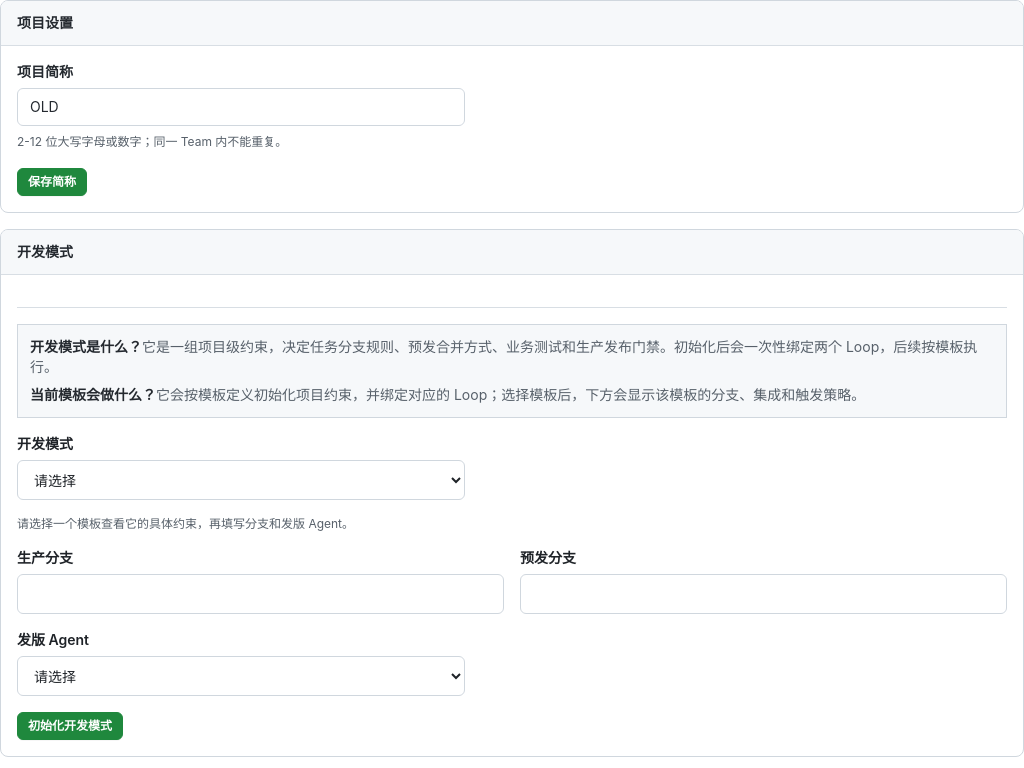
Scenario: ProjectSettingsPanel › disables controls while the request is pending
Click the button "保存简称" at (52, 182), box 17,168 -> 87,196
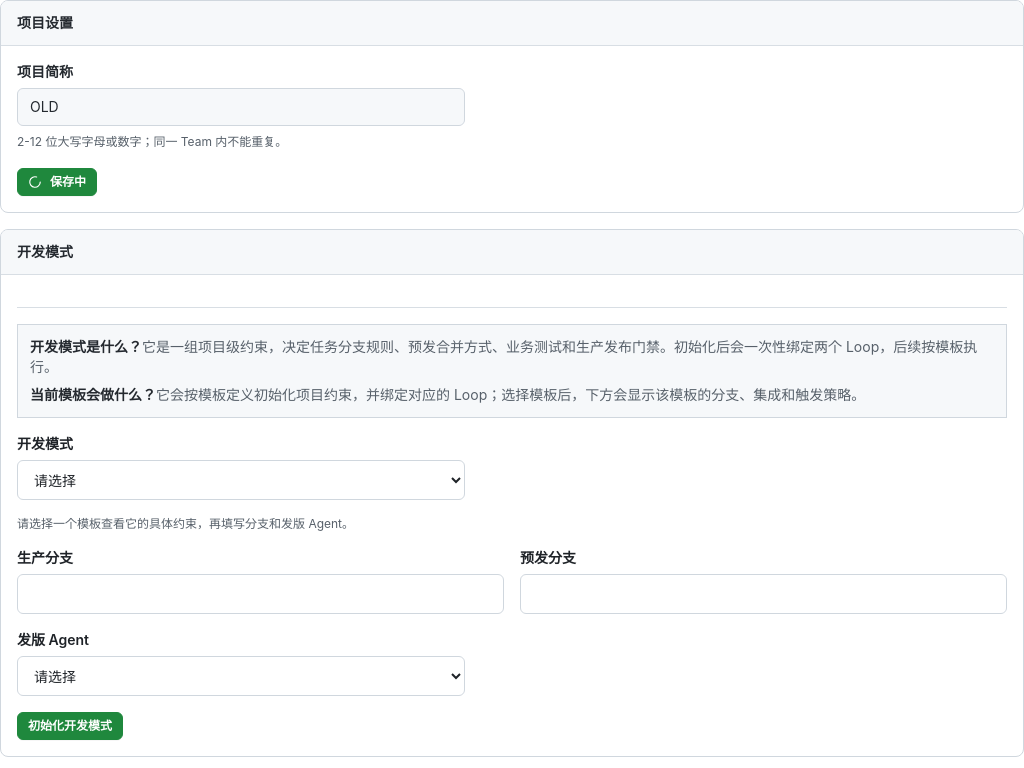
Expected: the field labelled "项目简称" is disabled, 17,88 -> 465,126
Expected: the button "保存中" is disabled, 17,168 -> 97,196
